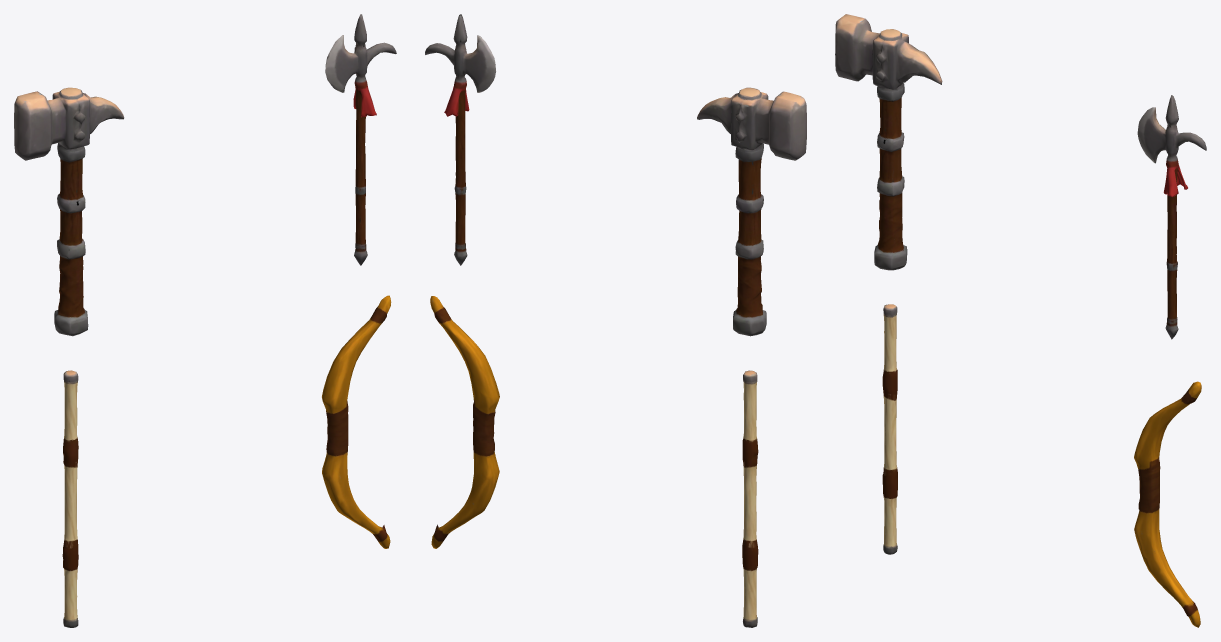
3 renders of one model, left to right at view 1: azimuth 30°, elevation 25°; view 2: azimuth 150°, elevation 25°; view 3: azimuth 330°, elevation 25°, orthographic. The views are drawn at different scales.
Parts seen in each view (by area): view 1: world; view 2: world; view 3: world.
Part boxes in pixels (x1,y1,x2,y2): world: (14, 14, 396, 627); world: (425, 14, 806, 627); world: (835, 14, 1206, 627).
Size of the model in its own units: 0.7289 by 0.9946 by 0.0733.
1 material, 1 textured.
